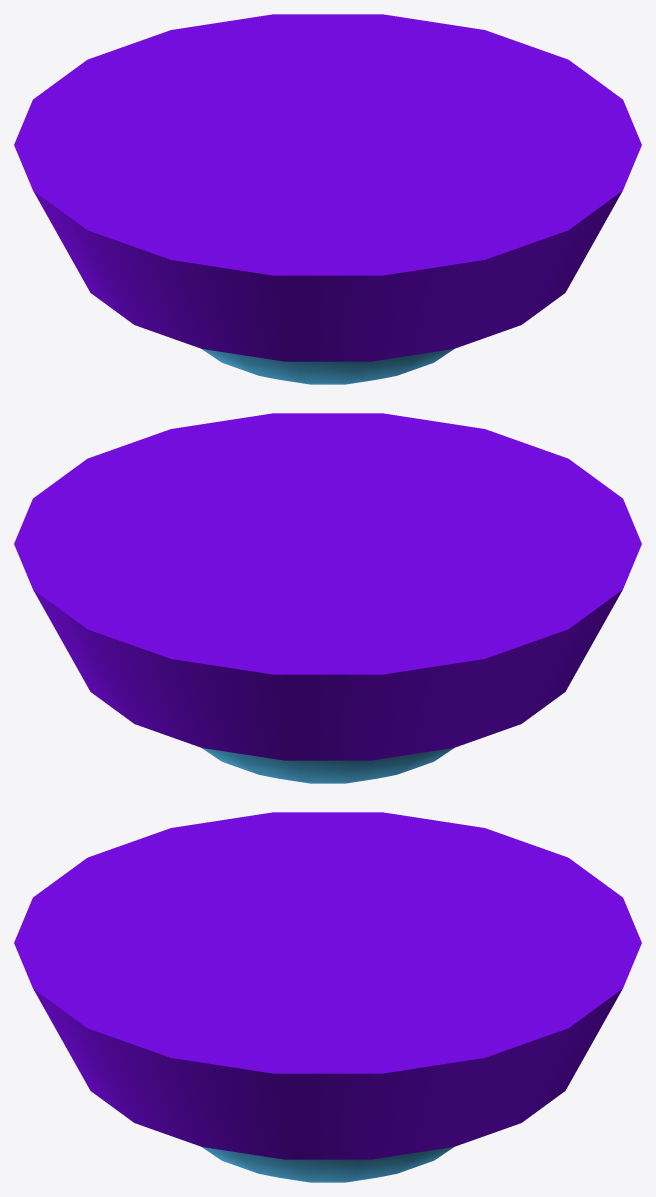
The model's file is Hanging_Hammer_Socket_02.fbx.
3 views of the same model, one above another, from view 1: azimuth 30°, elevation 25°; view 2: azimuth 150°, elevation 25°; view 3: azimuth 270°, elevation 25° (orthographic).
Visible parts, largest first — view 1: Obstacle_Hanging_Hammer_Socket_02; view 2: Obstacle_Hanging_Hammer_Socket_02; view 3: Obstacle_Hanging_Hammer_Socket_02.
Part boxes in pixels (bbox=[...]): Obstacle_Hanging_Hammer_Socket_02: bbox=[14, 14, 641, 384]; Obstacle_Hanging_Hammer_Socket_02: bbox=[14, 413, 641, 783]; Obstacle_Hanging_Hammer_Socket_02: bbox=[14, 812, 641, 1182].
Size of the model in its own units: 61.18 by 23.45 by 62.12.
Materials: 1 (1 with a texture image).
